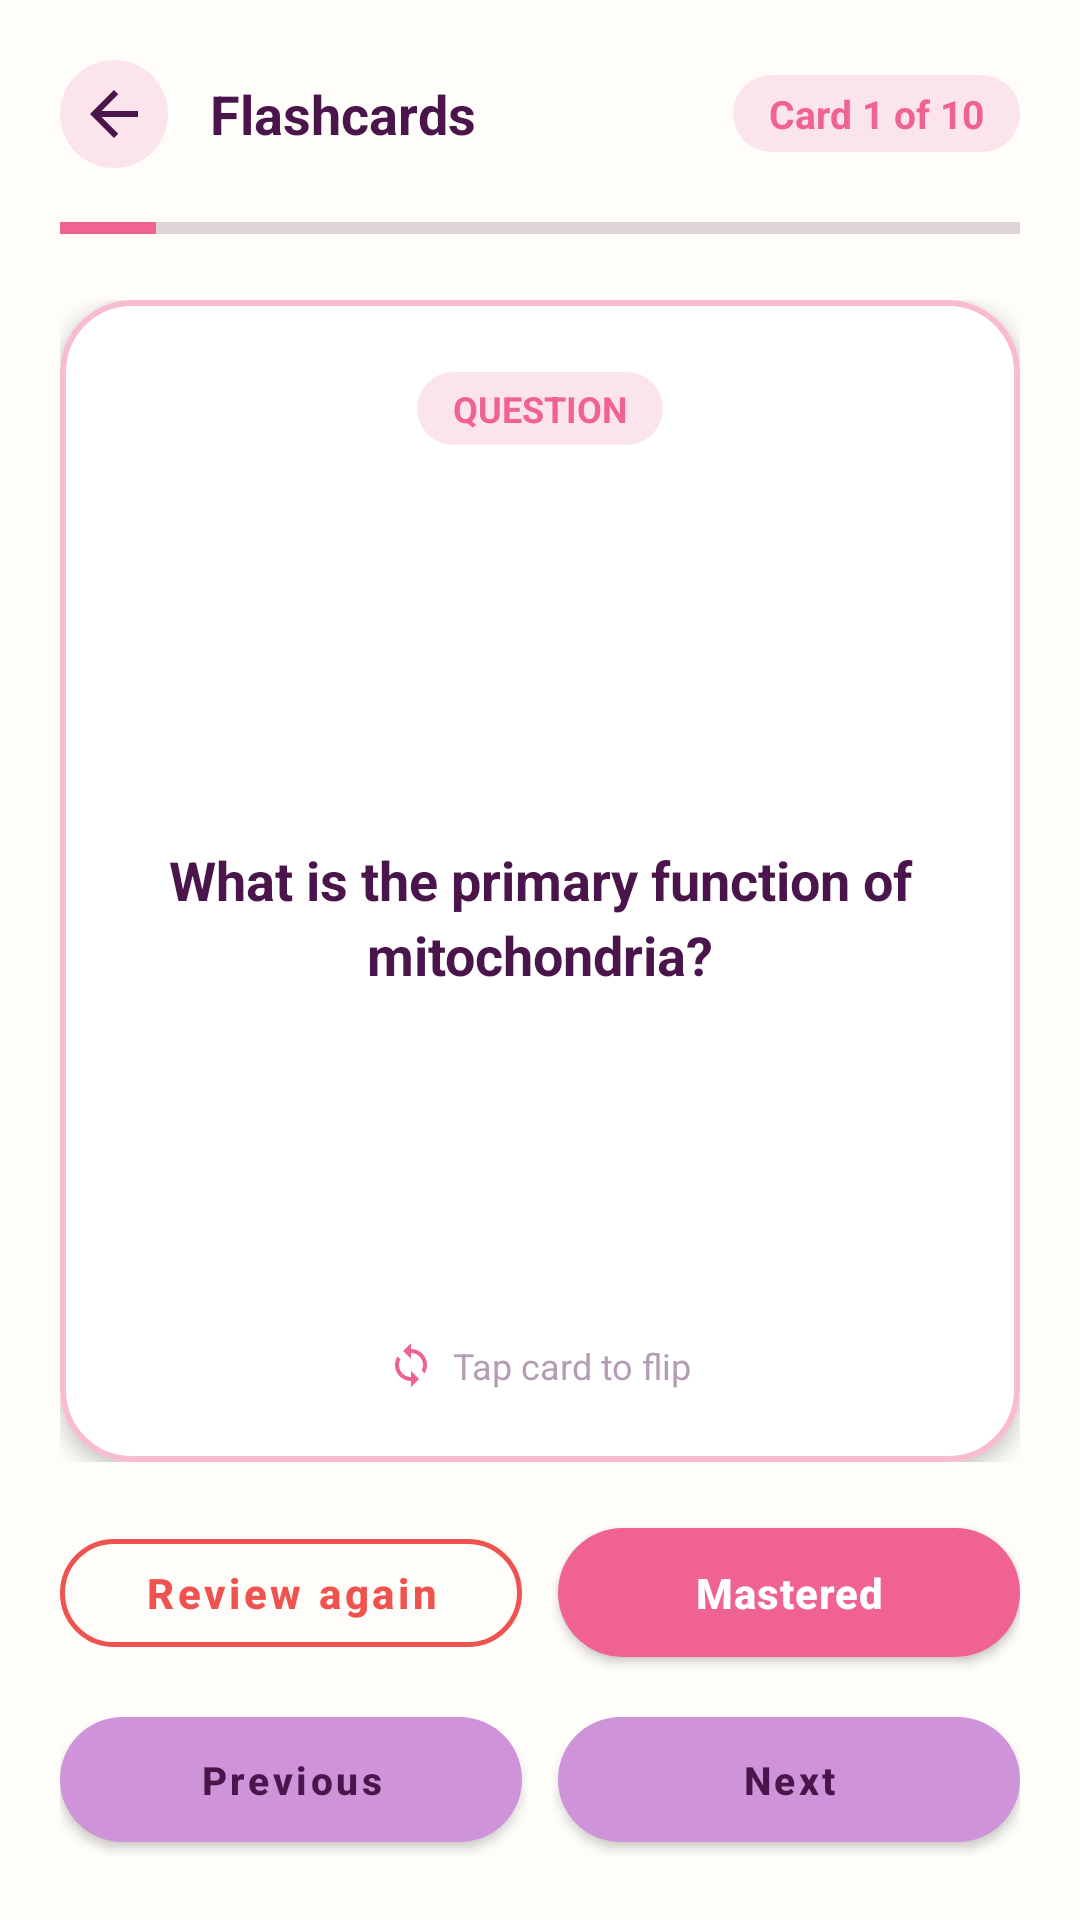

Screen size 1080px x 1920px. Icon name, then its center in pixels as point (x, y):
Back: point (114, 114)
